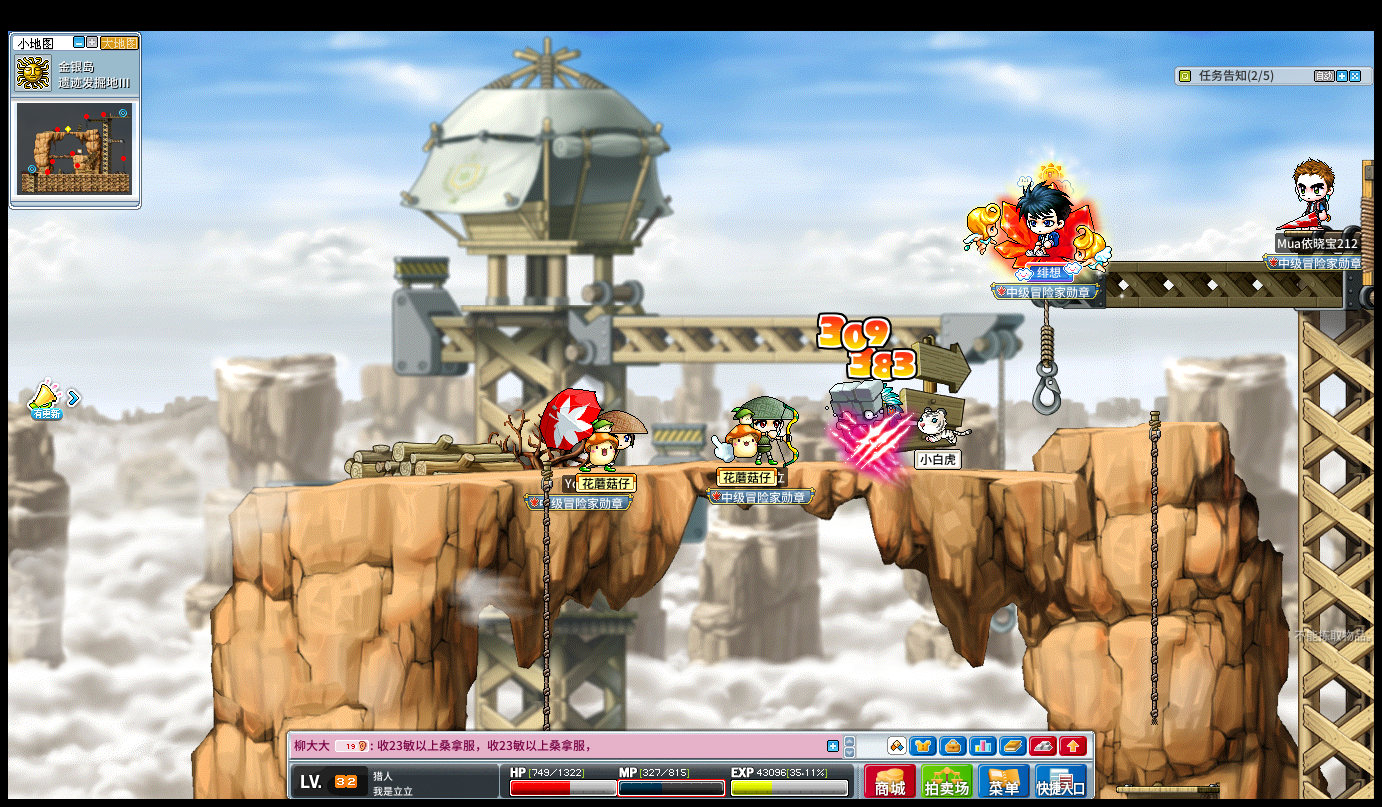floor: (230, 454, 1116, 486), (1057, 417, 1227, 433)
monster: (828, 377, 902, 466)
rope: (1145, 406, 1161, 724), (539, 459, 552, 696)
